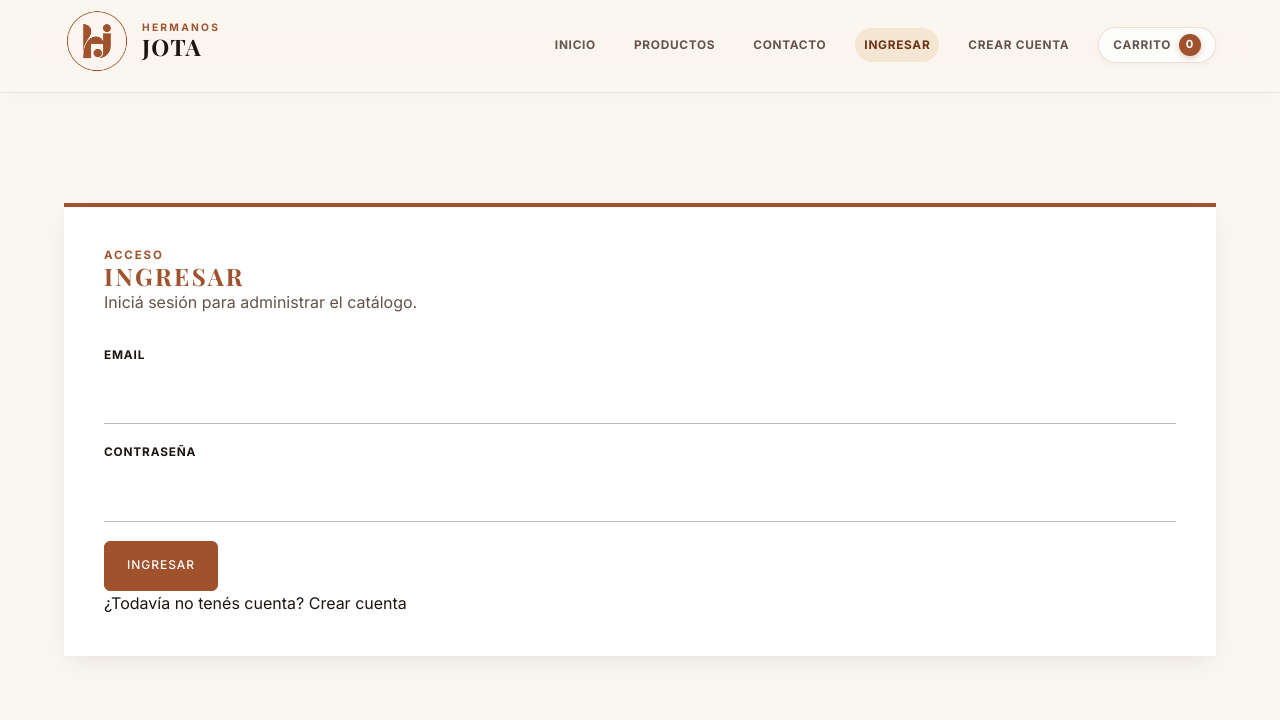
authentication flow › shows the backend credential error and clears the stored session on logout
The width and height of the screenshot is (1280, 720).
Later steps or results of the test are not shown.
In the field labelled "Email": (640, 398) [104, 372, 1176, 424], type "cliente@jota.com"
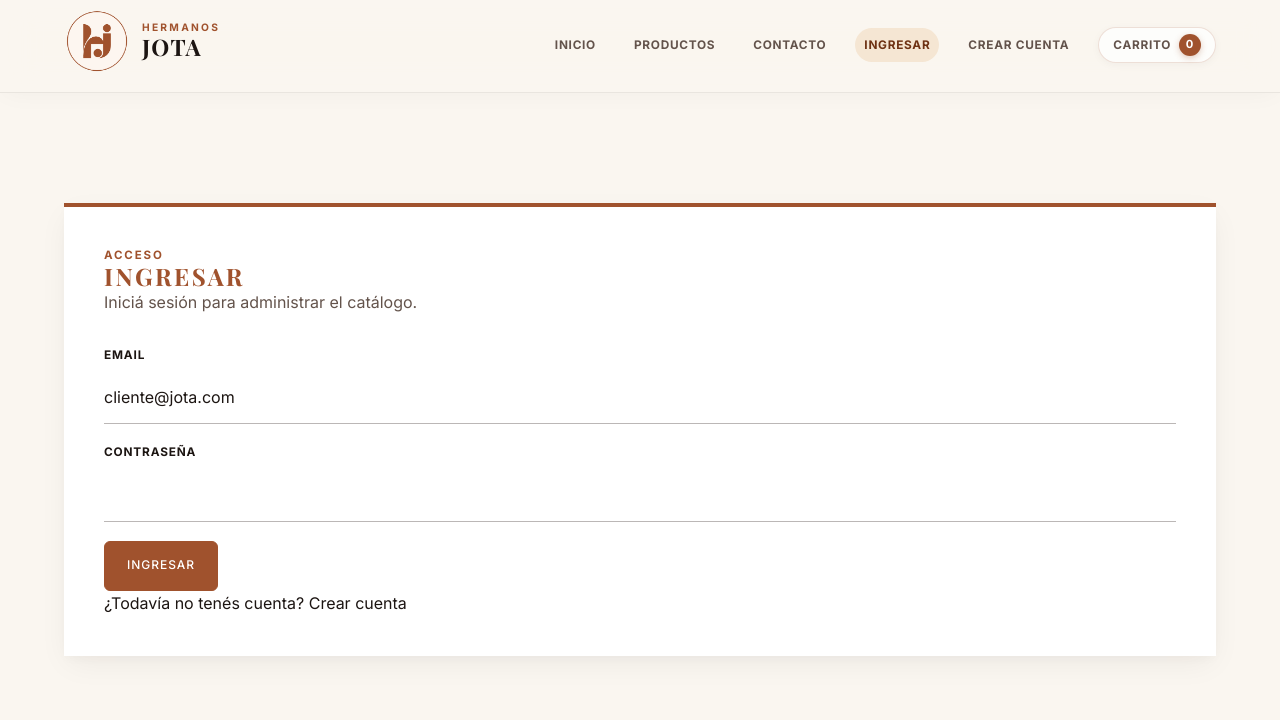
In the password field labelled "Contraseña": (640, 495) [104, 469, 1176, 522], type "incorrecta"
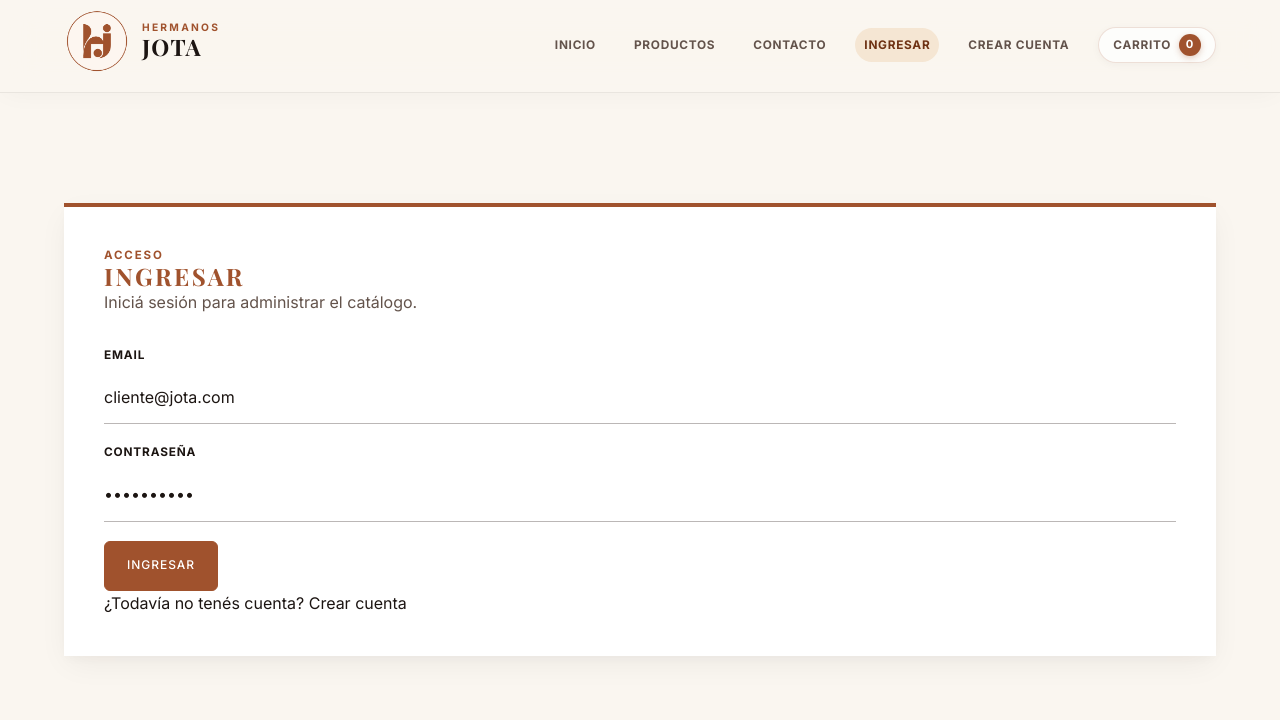
Click the button "Ingresar": (161, 566) [104, 541, 218, 591]
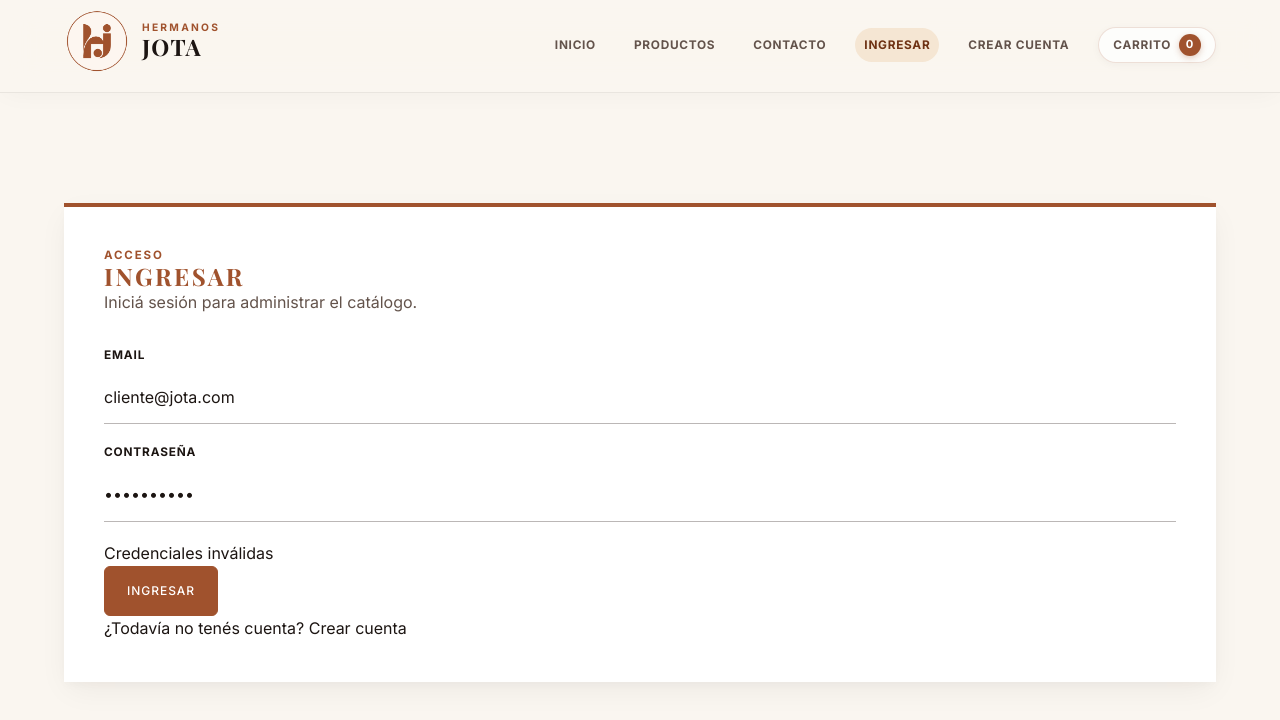
Result: the message reads "Credenciales inválidas" at [104, 543, 274, 563]
